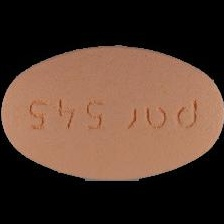49884-545: (0, 0, 224, 224)
